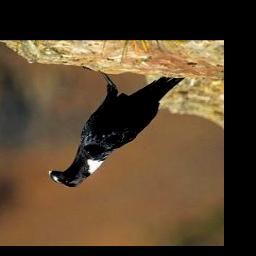Crow: (48, 66, 186, 189)
